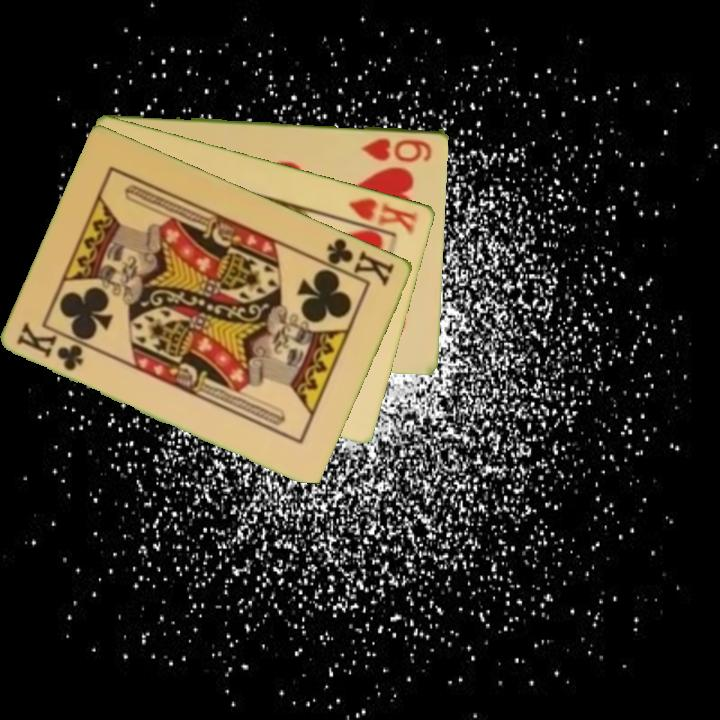6h: (358, 134, 435, 165)
Kc: (315, 234, 398, 288), (13, 320, 87, 374)
Kh: (337, 194, 421, 238)
